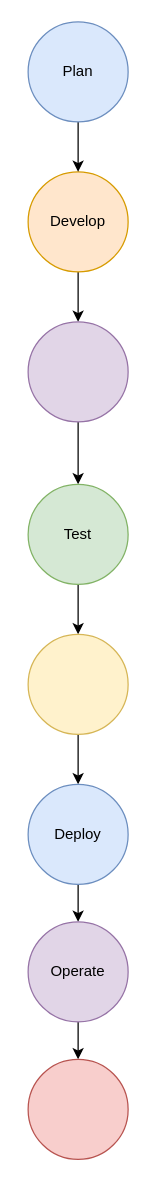
Image size: 150x1181. Some labels were removed from this diagram. The box of each missing label's shape, as (x1, y1, x2, y2) in pixels:
Build: (27, 321, 128, 422)
Monitor: (27, 1058, 128, 1159)
Release: (27, 633, 128, 734)
